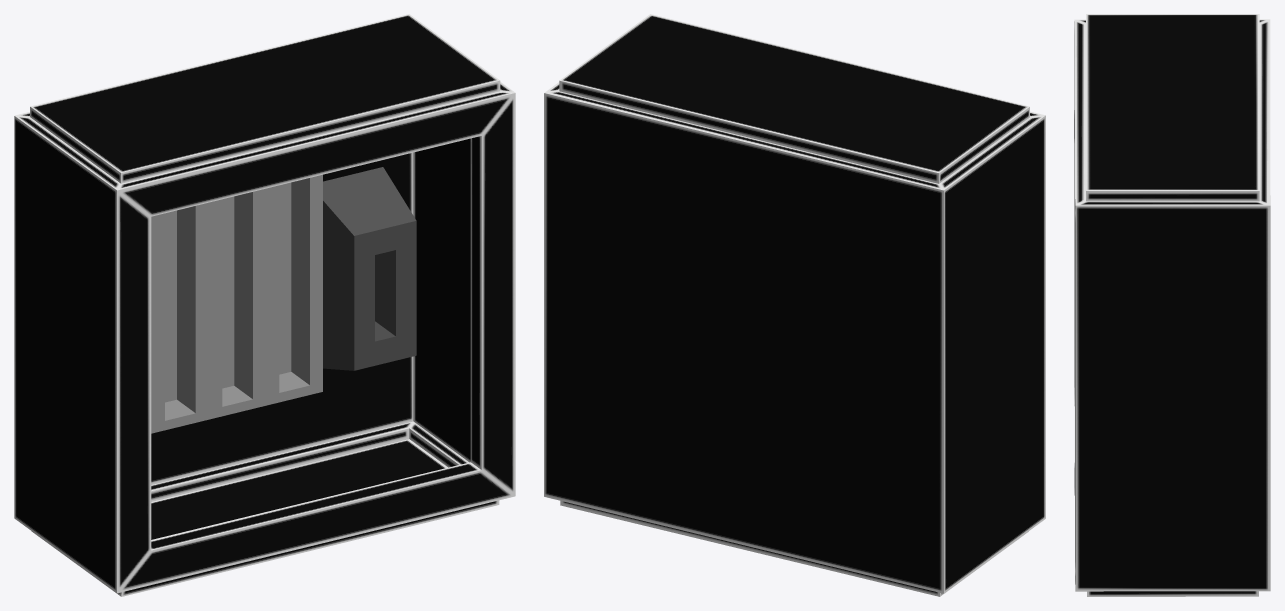
File: Fuse Box 2.fbx
3 renders of one model, left to right at view 1: azimuth 30°, elevation 25°; view 2: azimuth 150°, elevation 25°; view 3: azimuth 270°, elevation 25°, orthographic. The views are drawn at different scales.
Parts seen in each view (by area): view 1: pPlane11; view 2: pPlane11; view 3: pPlane11.
Boxes of the visible parts, x1,y1,x2,y2 form: pPlane11: (14,14,515,596); pPlane11: (544,14,1045,596); pPlane11: (1074,14,1270,596).
Bounding box in the file's own units: 8.5 × 8.63 × 3.78.
